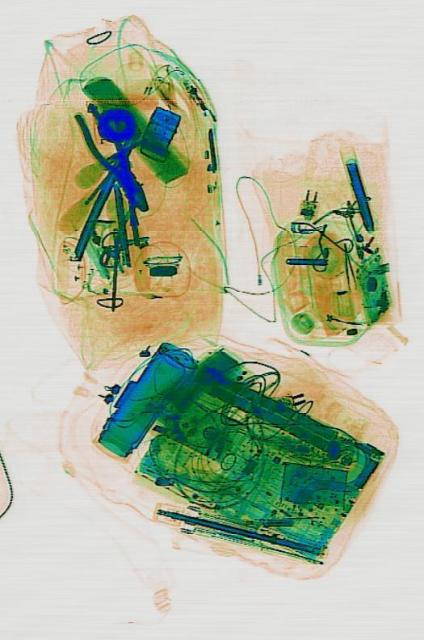Pliers: (69, 92, 158, 226)
